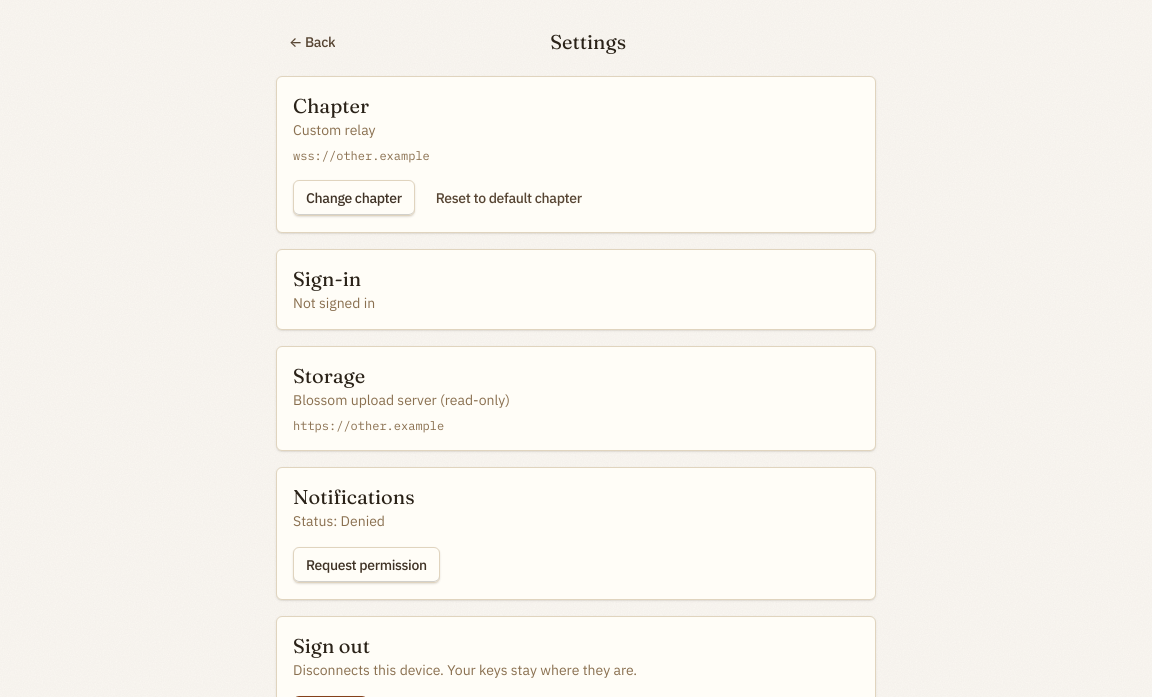
Test: SPEC-024 Settings route › Reset button restores DEFAULT_RELAY
Click the button "Reset to default chapter".
click(509, 198)  # box [423, 180, 595, 216]
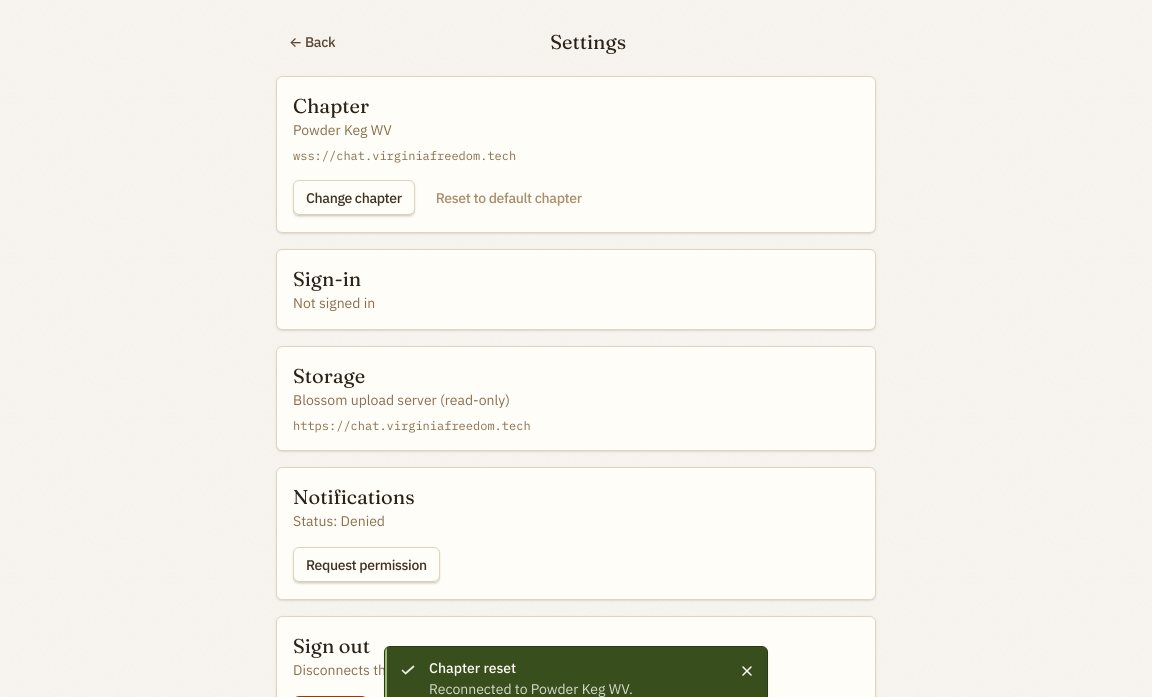
Result: the text "wss://chat.virginiafreedom.tech" is shown at [293, 148, 516, 163]
Result: the text "Powder Keg WV" is shown at [293, 121, 392, 139]
Result: the text named "Current relay URL" reads "wss://chat.virginiafreedom.tech" at [293, 148, 516, 163]
